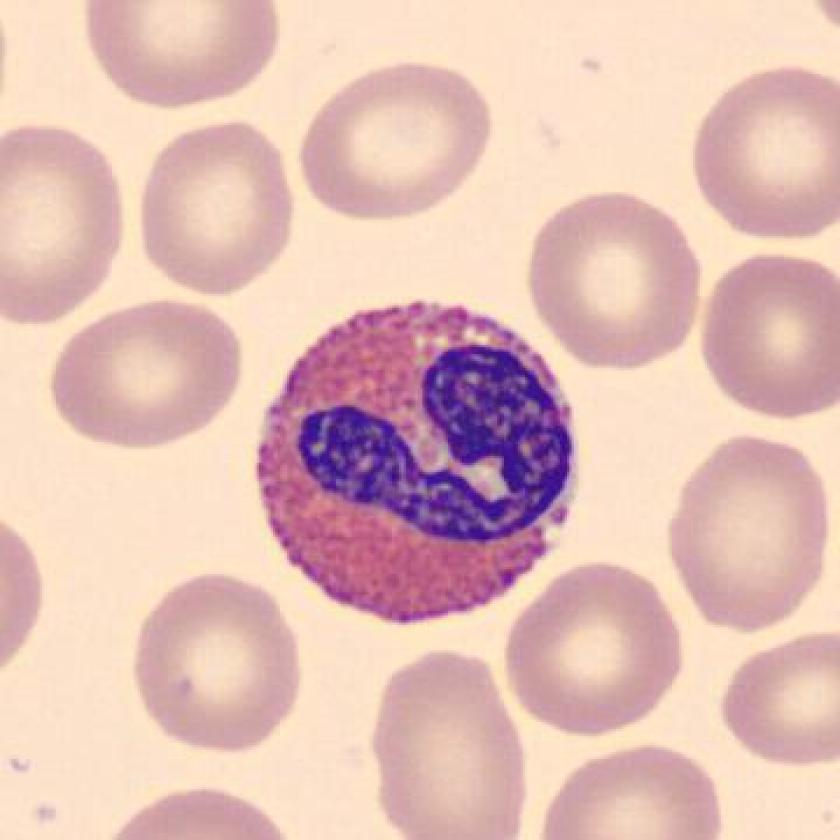eosinophil: (246, 286, 594, 640)
